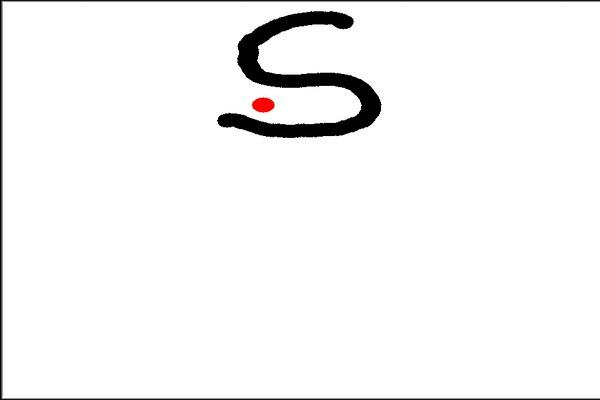S: (209, 7, 385, 140)
